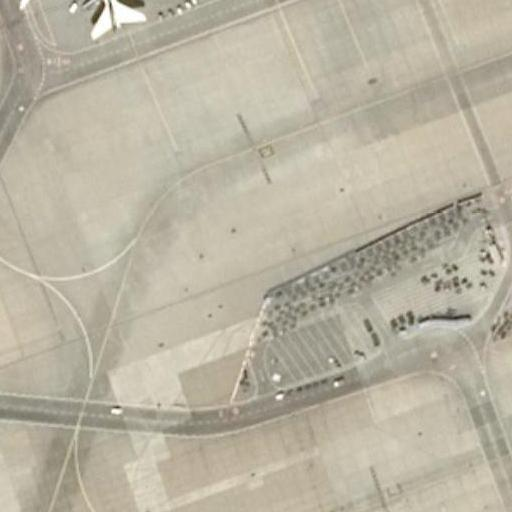Aircraft: (10, 0, 190, 39), (11, 0, 184, 40)
